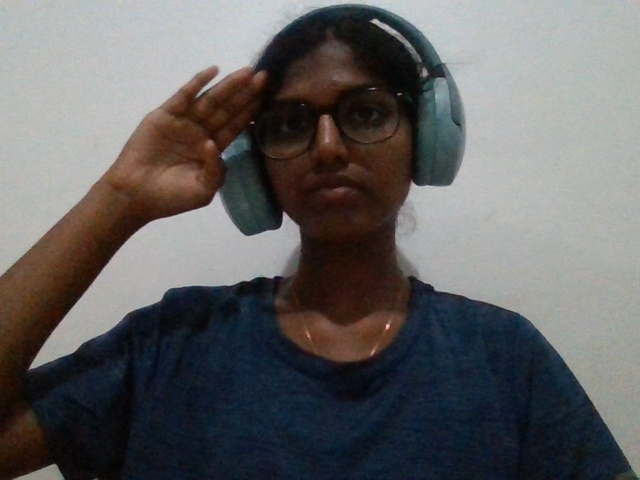Hello: (82, 51, 289, 267)
